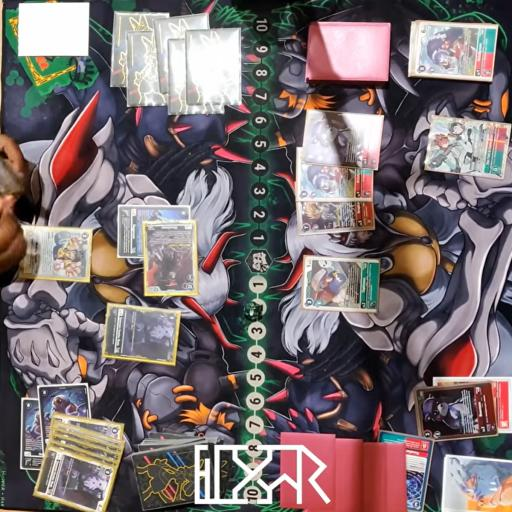card: (421, 114, 512, 180), (411, 378, 495, 445), (411, 20, 498, 84), (32, 446, 114, 512), (100, 303, 182, 368), (303, 109, 384, 174), (140, 220, 204, 298), (14, 223, 94, 284), (295, 147, 378, 203), (299, 258, 382, 312), (378, 427, 430, 512), (36, 382, 94, 454), (116, 204, 192, 258), (50, 423, 127, 471), (295, 197, 377, 234), (50, 413, 130, 441), (22, 398, 52, 470), (494, 375, 512, 434)
